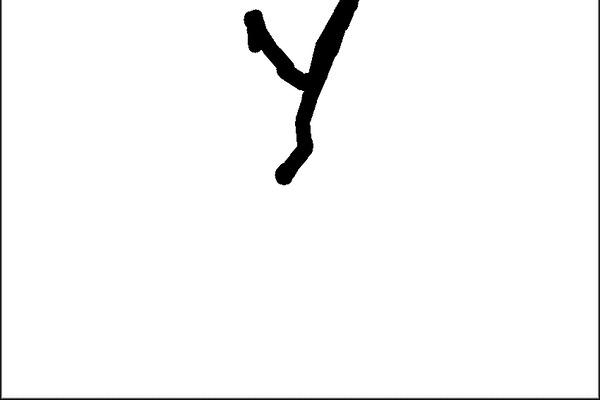Y: (232, 0, 369, 190)
